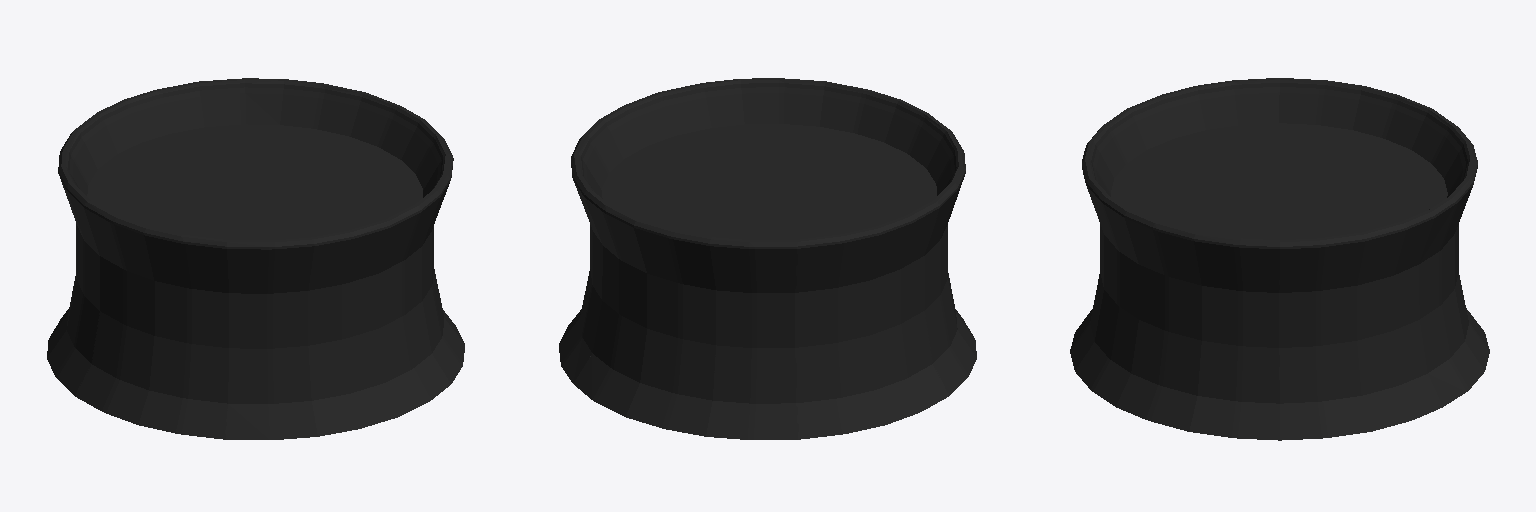
Rendered from wheel_hub_left_backup.obj.
3 renders of one model, left to right at view 1: azimuth 30°, elevation 25°; view 2: azimuth 150°, elevation 25°; view 3: azimuth 270°, elevation 25°, orthographic.
Parts seen in each view (by area): view 1: sedan_tirehub_left_Circle.002; view 2: sedan_tirehub_left_Circle.002; view 3: sedan_tirehub_left_Circle.002.
Part boxes in pixels (left/top/right/bottom): sedan_tirehub_left_Circle.002: left=47, top=78, right=464, bottom=439; sedan_tirehub_left_Circle.002: left=559, top=78, right=976, bottom=439; sedan_tirehub_left_Circle.002: left=1070, top=78, right=1489, bottom=440.
Bounding box in the file's own units: 0.406 × 0.205 × 0.406.